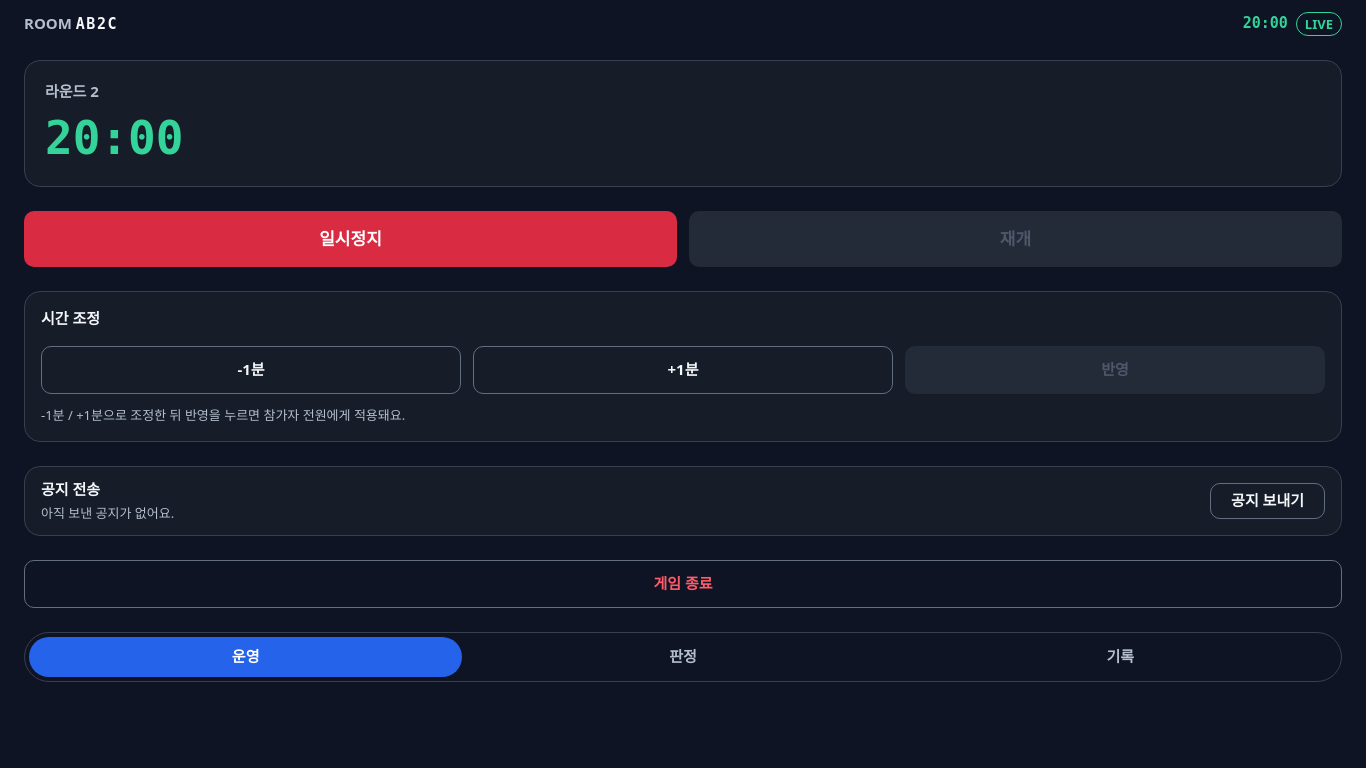
Test: RoundOpsPage › 상태 줄 › 시간이 0에 닿는 순간을 토스트로 알린다 — 다른 탭을 보고 있어도 놓치지 않게
Click the radio button labelled "판정".
click(683, 657)  # box [466, 637, 900, 677]
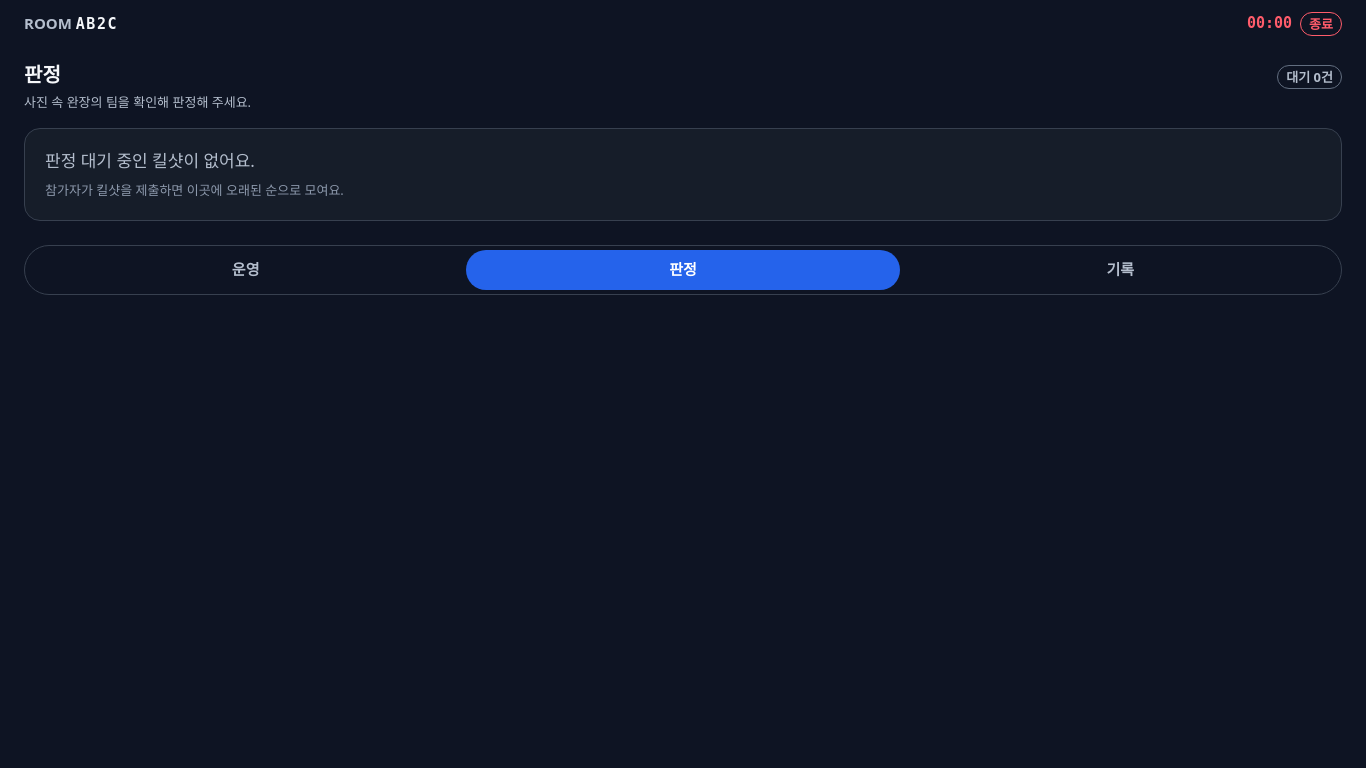
Check: the text named "라운드 남은 시간" reads "00:00", box [1247, 14, 1292, 32]
